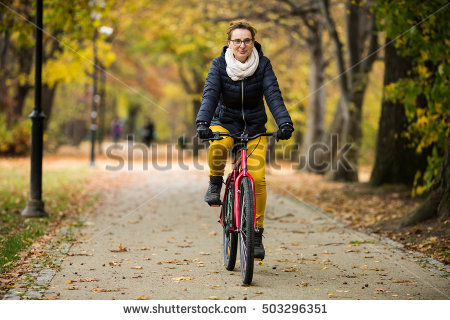bikerider: (178, 11, 296, 287)
